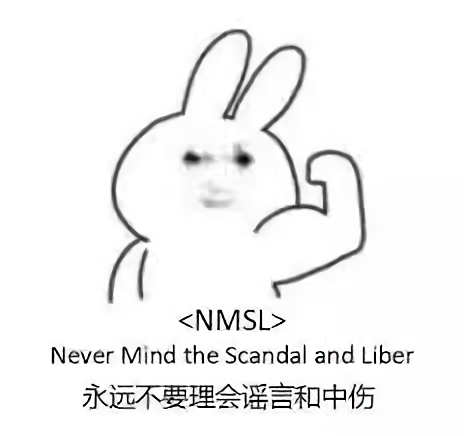dragon: (181, 146, 257, 215)
